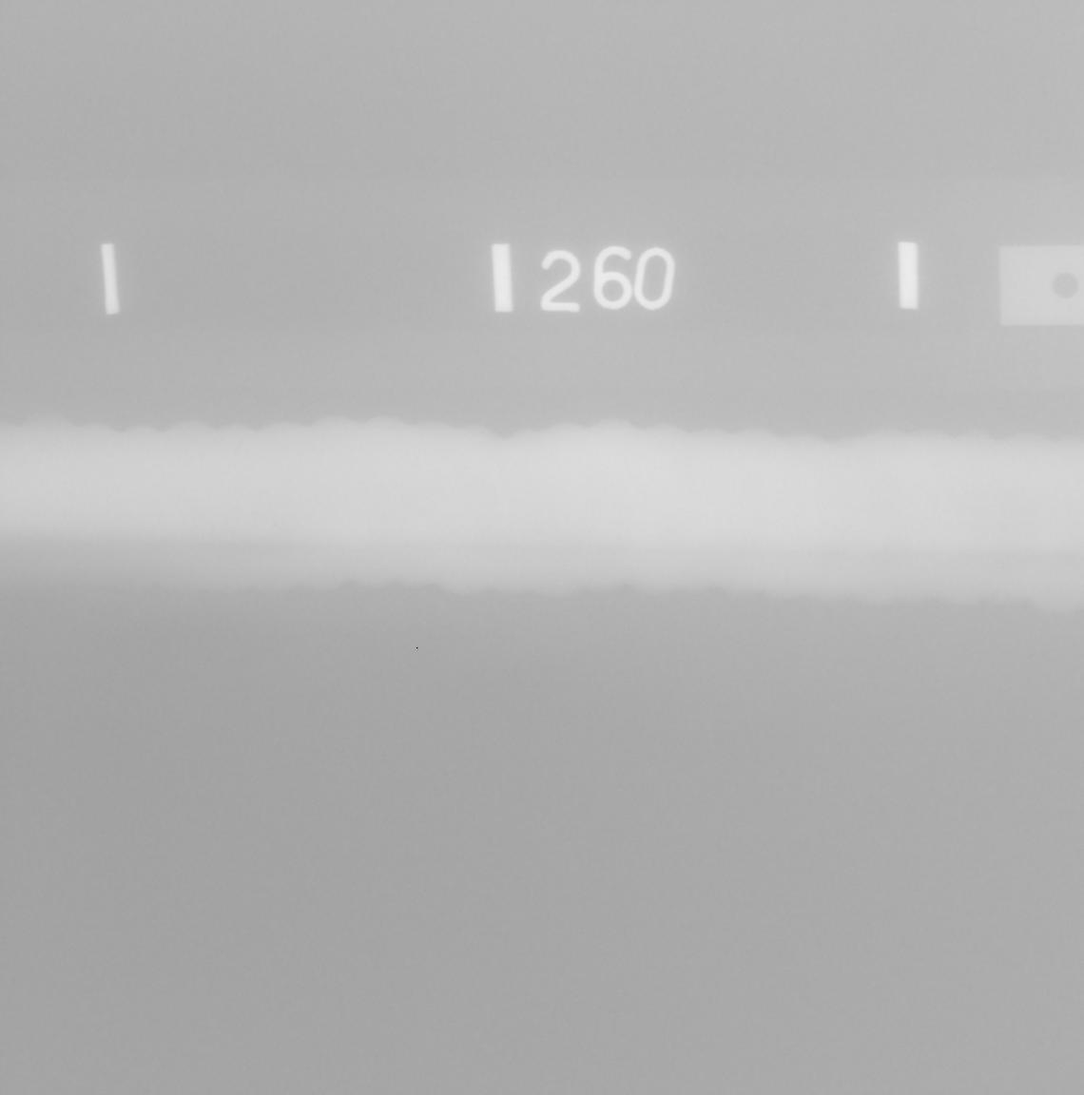Pore/Porosity: (249, 511, 262, 519), (983, 531, 990, 541), (272, 521, 281, 528)
